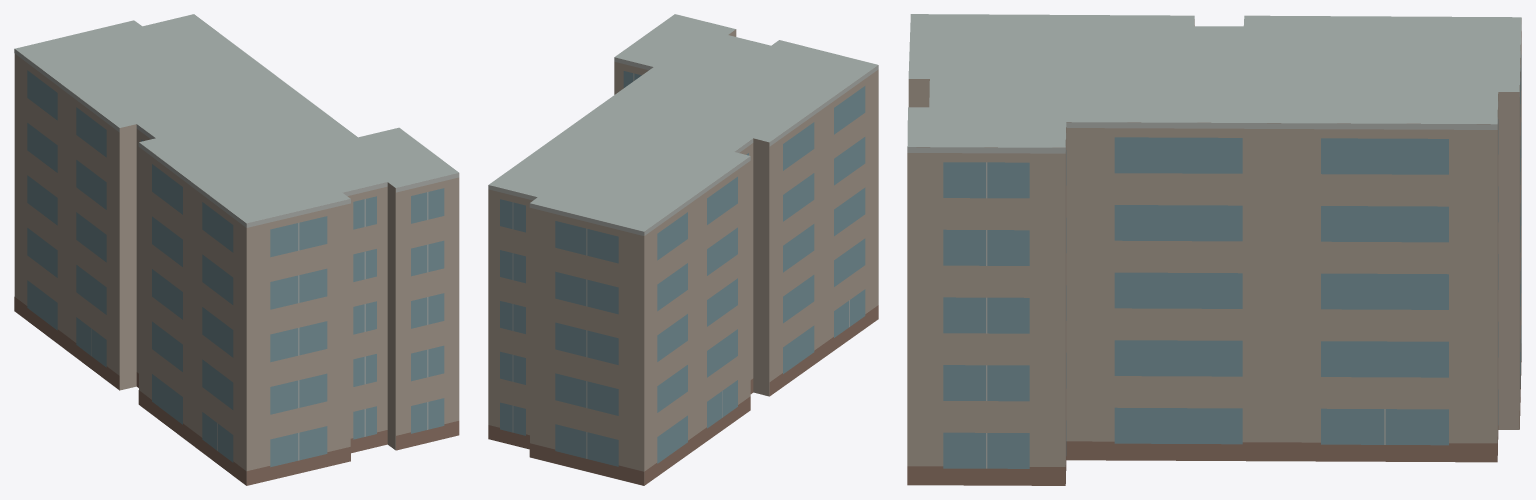
The model's file is survey-upis-32637298.glb.
3 views of the same model, side by side, from view 1: azimuth 30°, elevation 25°; view 2: azimuth 150°, elevation 25°; view 3: azimuth 270°, elevation 25° (orthographic). The views are drawn at different scales.
Visible parts, largest first — view 1: survey-upis-32637298.tmp; view 2: survey-upis-32637298.tmp; view 3: survey-upis-32637298.tmp.
Boxes of the visible parts, left/top/right/bottom form: survey-upis-32637298.tmp: left=14, top=14, right=459, bottom=485; survey-upis-32637298.tmp: left=488, top=14, right=878, bottom=485; survey-upis-32637298.tmp: left=907, top=14, right=1521, bottom=485.
Size of the model in its own units: 11.93 by 14.05 by 23.14.
